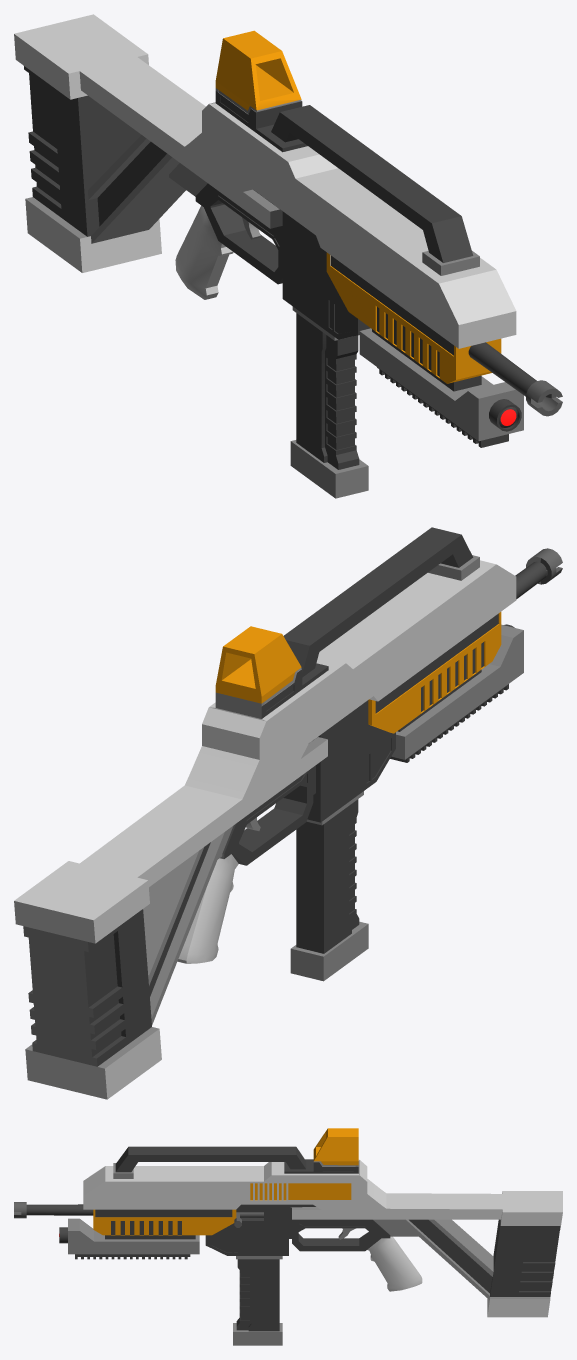
Rendered from Rifle_-_BaseColor2.fbx.
The picture shows the model from 3 angles, top to bottom: view 1: azimuth 30°, elevation 25°; view 2: azimuth 150°, elevation 25°; view 3: azimuth 270°, elevation 25°; orthographic projection. The views are drawn at different scales.
Visible parts, largest first — view 1: Base arma; view 2: Base arma; view 3: Base arma.
Boxes of the visible parts, x1,y1,x2,y2 form: Base arma: (14, 14, 562, 498); Base arma: (14, 527, 562, 1099); Base arma: (14, 1128, 562, 1345).
Bounding box in the file's own units: 45.94 × 188 × 449.
